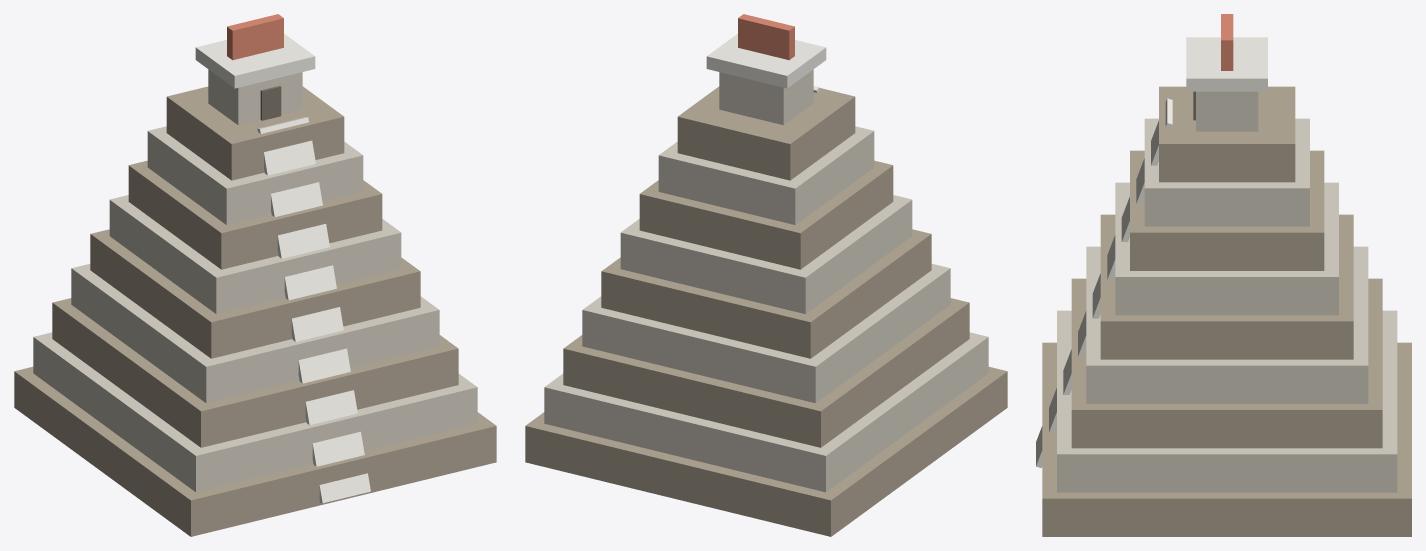
File: temple.glb
3 renders of one model, left to right at view 1: azimuth 30°, elevation 25°; view 2: azimuth 150°, elevation 25°; view 3: azimuth 270°, elevation 25°, orthographic. The views are drawn at different scales.
Visible parts, largest first — view 1: mesoamerican_temple; view 2: mesoamerican_temple; view 3: mesoamerican_temple.
Boxes of the visible parts, left/top/right/bottom form: mesoamerican_temple: left=14, top=14, right=496, bottom=536; mesoamerican_temple: left=525, top=14, right=1007, bottom=536; mesoamerican_temple: left=1036, top=14, right=1411, bottom=536.
Bounding box in the file's own units: 0.76 × 0.98 × 0.7732.
